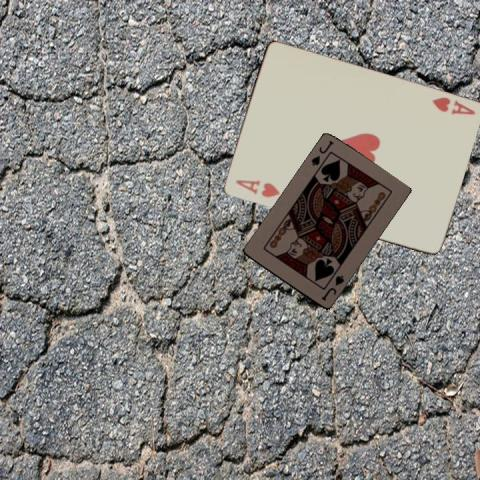Ah: (428, 94, 477, 117), (232, 177, 281, 199)
Js: (318, 272, 346, 303), (308, 138, 335, 168)
